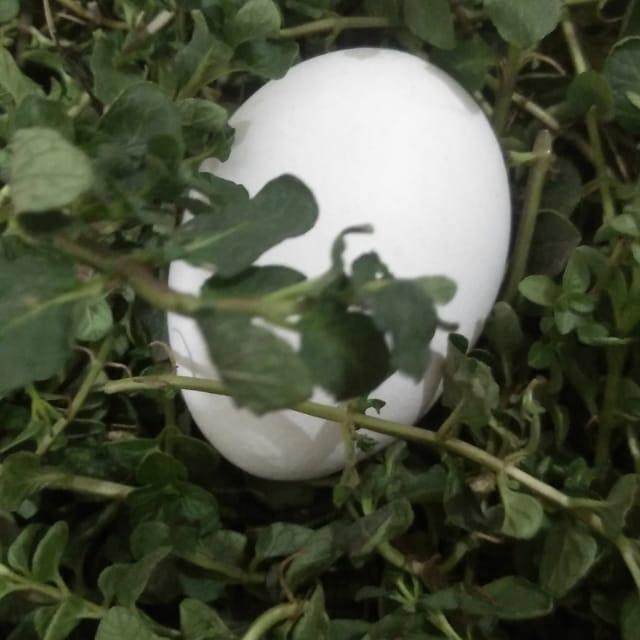egg: (161, 43, 514, 482)
